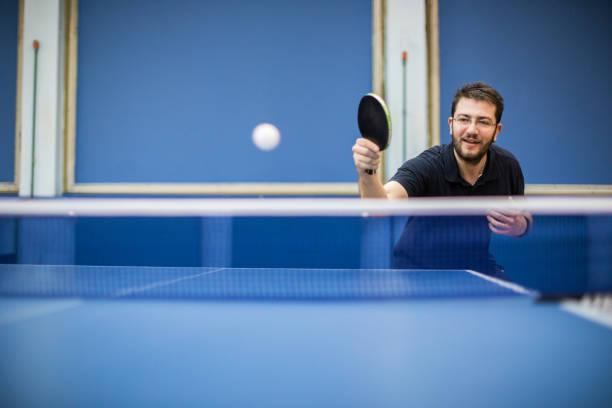ball_pingpong: (251, 122, 283, 152)
